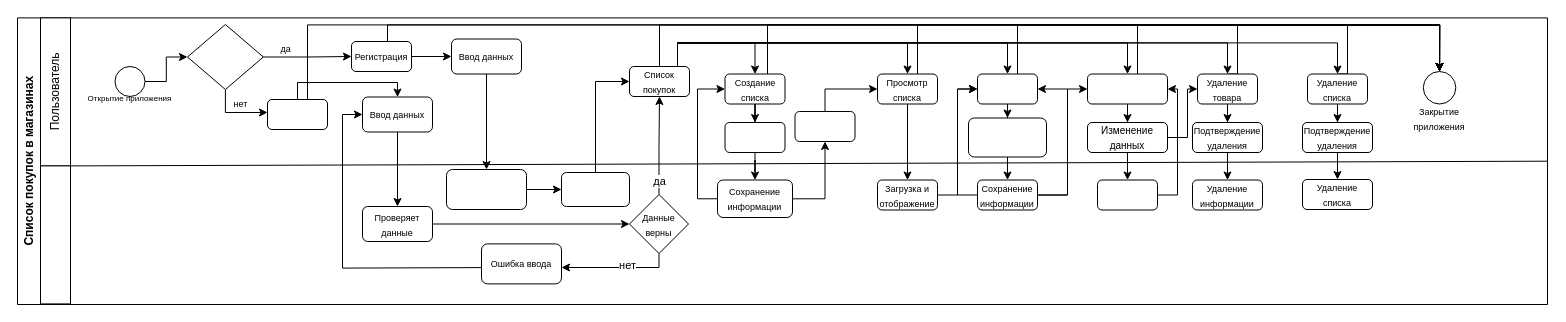
Some shapes in this 1566 by 322 pixel diagram are drawn without their labels. The centre of each missing label's shape, as x and y in pixels:
Ввод названия: [754,137]
Ввод названия и колличества: [1007,137]
Вход: [297,114]
Добавление товара: [1007,88]
Новый список: [824,126]
Пользователь новый: [224,57]
Проверяет наличие: [486,189]
Редактирование товара: [1127,88]
Сервер: [55,234]
Сохранение изменений: [1127,194]
Сохраняет данные: [595,189]
